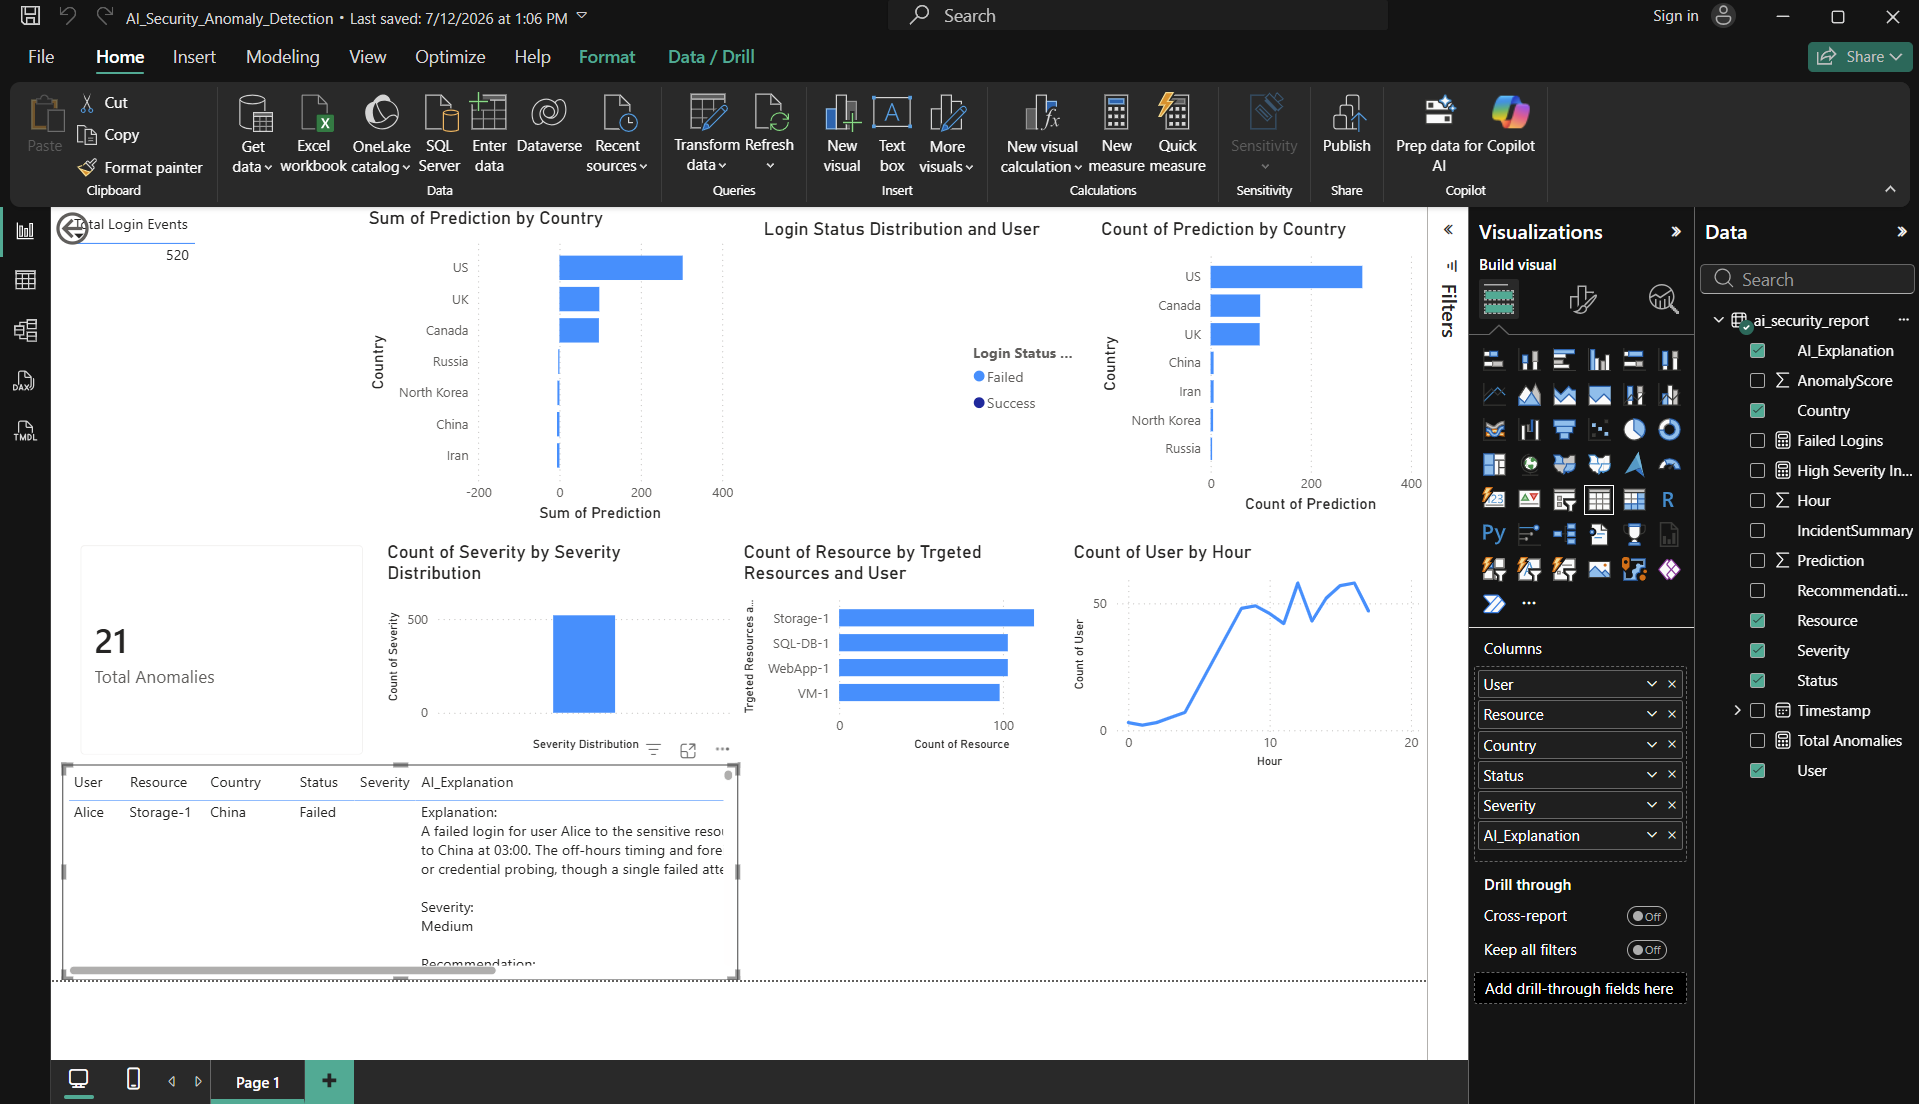

The page's visual inventory and layout, read from the dashboard file:
{"tool":"powerbi","page":{"name":"Page 1","canvas":[1280,720],"ordinal":0},"visuals":[{"type":"tableEx","fields":{"Values":["ai_security_report.User"]},"box":[10,0,280,280],"z":0},{"type":"cardVisual","fields":{"Data":["ai_security_report.Total Anomalies"]},"box":[10.5,297.7,297.7,229.1],"z":1000},{"type":"pieChart","fields":{"Category":["ai_security_report.Status"],"Series":["ai_security_report.User"]},"box":[658.1,10.5,303.5,279.1],"z":2000},{"type":"clusteredBarChart","fields":{"Category":["ai_security_report.Country"],"Y":["CountNonNull(ai_security_report.Prediction)"]},"box":[972.1,10.5,308.1,279.1],"z":3000},{"type":"clusteredColumnChart","fields":{"Category":["ai_security_report.Severity"],"Y":["CountNonNull(ai_security_report.Severity)"]},"box":[308.1,310.5,331.4,200],"z":4000},{"type":"clusteredBarChart","fields":{"Category":["ai_security_report.Resource"],"Y":["CountNonNull(ai_security_report.Resource)"]},"box":[639.5,310.5,345.3,200],"z":5000},{"type":"lineChart","fields":{"Category":["ai_security_report.Hour"],"Y":["CountNonNull(ai_security_report.User)"]},"box":[946.5,310.5,333.7,216.3],"z":6000},{"type":"tableEx","fields":{"Values":["ai_security_report.User","ai_security_report.Resource","ai_security_report.Country","ai_security_report.Status","ai_security_report.Severity","ai_security_report.AI_Explanation"]},"box":[10.5,518.6,629.1,201.2],"z":7000},{"type":"actionButton","box":[0,0,100,40],"z":8000},{"type":"clusteredBarChart","fields":{"Category":["ai_security_report.Country"],"Y":["Sum(ai_security_report.Prediction)"]},"box":[290.7,0,348.8,297.7],"z":9000}]}

Visuals, with their boxes on the page's 1280x720 design canvas (x1, y1, x2, y2). These are canvas units, not pixel positions in the 1919x1104 screenshot, which may show the page scaled, cropped or inside an application window:
tableEx - ai_security_report.User: 10,0,290,280
cardVisual - ai_security_report.Total Anomalies: 10,298,308,527
pieChart - ai_security_report.Status x ai_security_report.User: 658,10,962,290
clusteredBarChart - ai_security_report.Country x CountNonNull(ai_security_report.Prediction): 972,10,1280,290
clusteredColumnChart - ai_security_report.Severity x CountNonNull(ai_security_report.Severity): 308,310,640,510
clusteredBarChart - ai_security_report.Resource x CountNonNull(ai_security_report.Resource): 640,310,985,510
lineChart - ai_security_report.Hour x CountNonNull(ai_security_report.User): 946,310,1280,527
tableEx - ai_security_report.User x ai_security_report.Resource: 10,519,640,720
actionButton: 0,0,100,40
clusteredBarChart - ai_security_report.Country x Sum(ai_security_report.Prediction): 291,0,640,298
